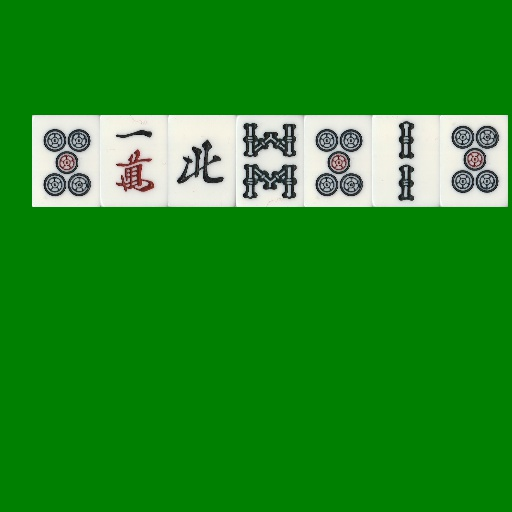1m: (100, 115, 168, 207)
2s: (372, 115, 440, 207)
5p: (32, 115, 100, 207), (304, 115, 372, 207), (440, 115, 508, 207)
8s: (236, 115, 304, 207)
north: (168, 115, 236, 207)
